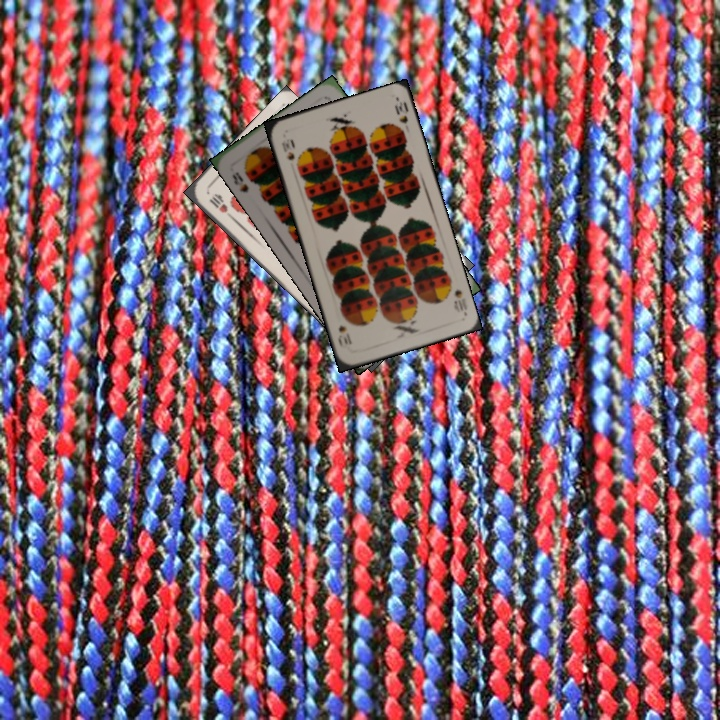H10: (205, 190, 236, 221)
S10: (277, 136, 301, 170), (449, 284, 470, 317)
S8: (228, 168, 251, 195)
